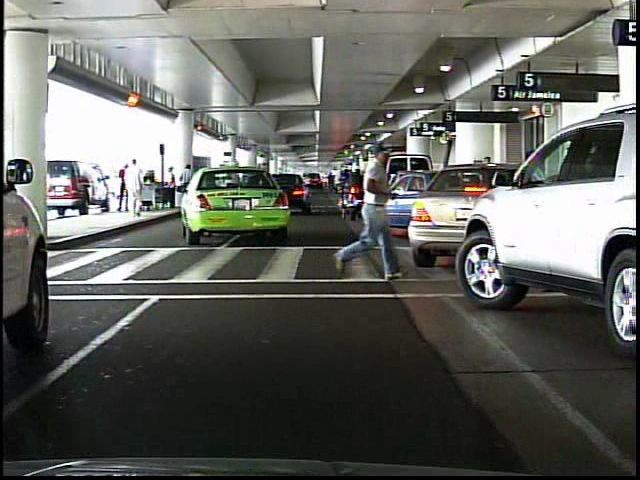person: (335, 140, 407, 287)
